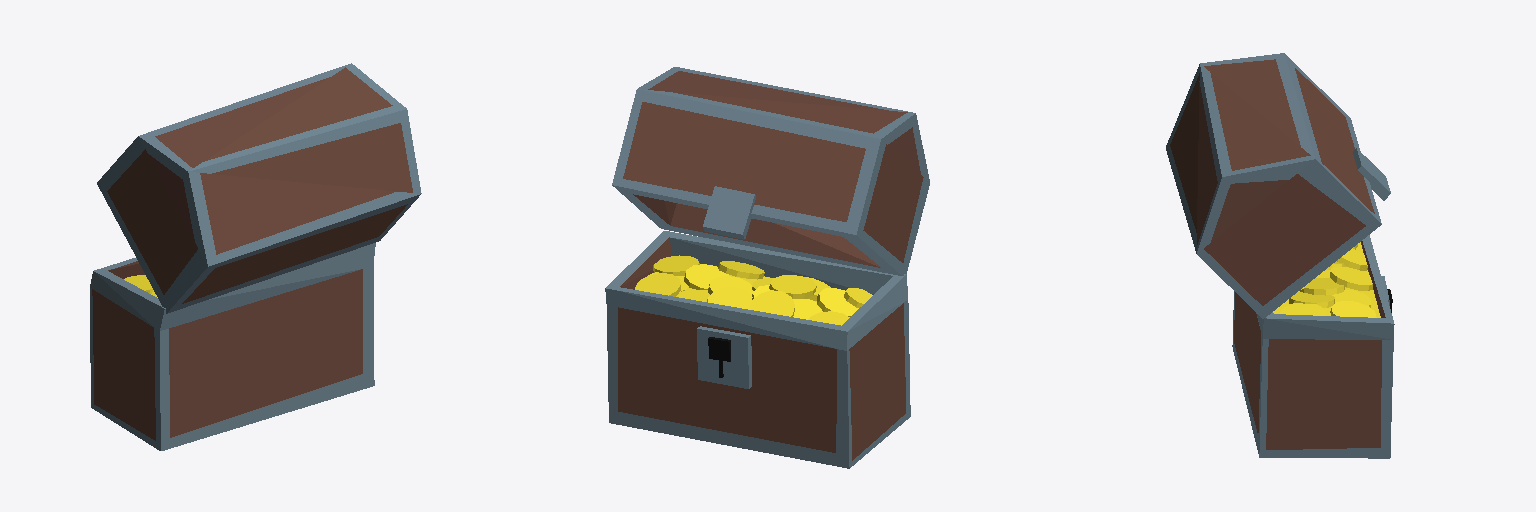
3 views of the same model, side by side, from view 1: azimuth 30°, elevation 25°; view 2: azimuth 150°, elevation 25°; view 3: azimuth 270°, elevation 25° (orthographic).
Visible parts, largest first — view 1: group[number redacted], group[number redacted]; view 2: group[number redacted], group[number redacted], group[number redacted], group[number redacted], group[number redacted], group[number redacted], group[number redacted], group[number redacted], group[number redacted], group[number redacted], group[number redacted], group[number redacted] (+1 smaller); view 3: group[number redacted], group[number redacted], group[number redacted], group[number redacted], group[number redacted], group[number redacted].
Part boxes in pixels (x1,y1,x2,y2): group[number redacted]: (97,63,421,313); group[number redacted]: (90,243,375,450); group[number redacted]: (605,231,910,468); group[number redacted]: (612,67,929,275); group[number redacted]: (697,326,751,388); group[number redacted]: (703,186,755,239); group[number redacted]: (749,290,794,316); group[number redacted]: (769,275,816,298); group[number redacted]: (635,273,680,296); group[number redacted]: (817,288,858,316); group[number redacted]: (684,264,728,289); group[number redacted]: (707,287,752,309); group[number redacted]: (653,255,699,275); group[number redacted]: (718,261,764,279); group[number redacted]: (1166,53,1381,318); group[number redacted]: (1232,235,1394,458); group[number redacted]: (1353,148,1390,200); group[number redacted]: (1330,267,1372,290); group[number redacted]: (1330,301,1376,317); group[number redacted]: (1300,278,1344,295).
Bounding box in the file's own units: 1.37 × 1.61 × 1.1.